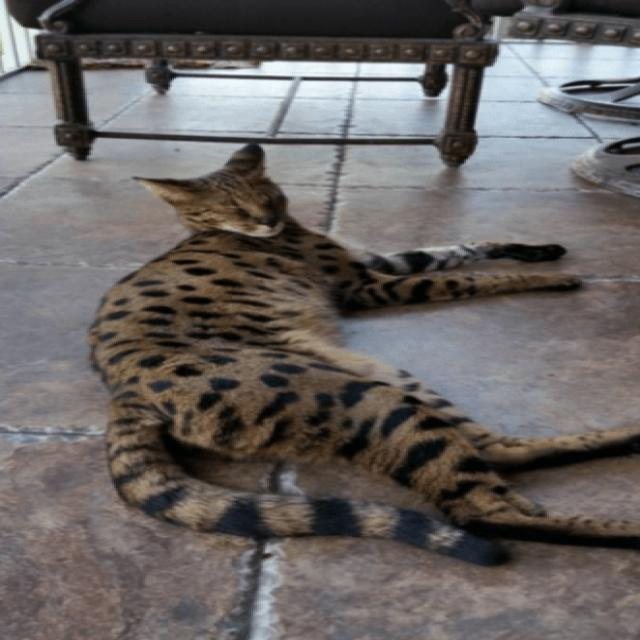Savannah: (81, 140, 640, 570)
